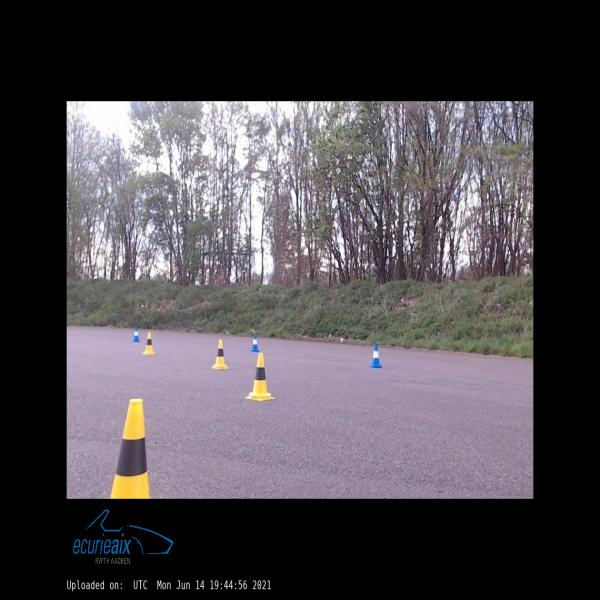blue_cone: (370, 343, 382, 368), (251, 334, 259, 351), (132, 327, 140, 342)
yellow_cone: (110, 398, 150, 498), (246, 353, 274, 400), (212, 340, 228, 368), (142, 332, 156, 354)
